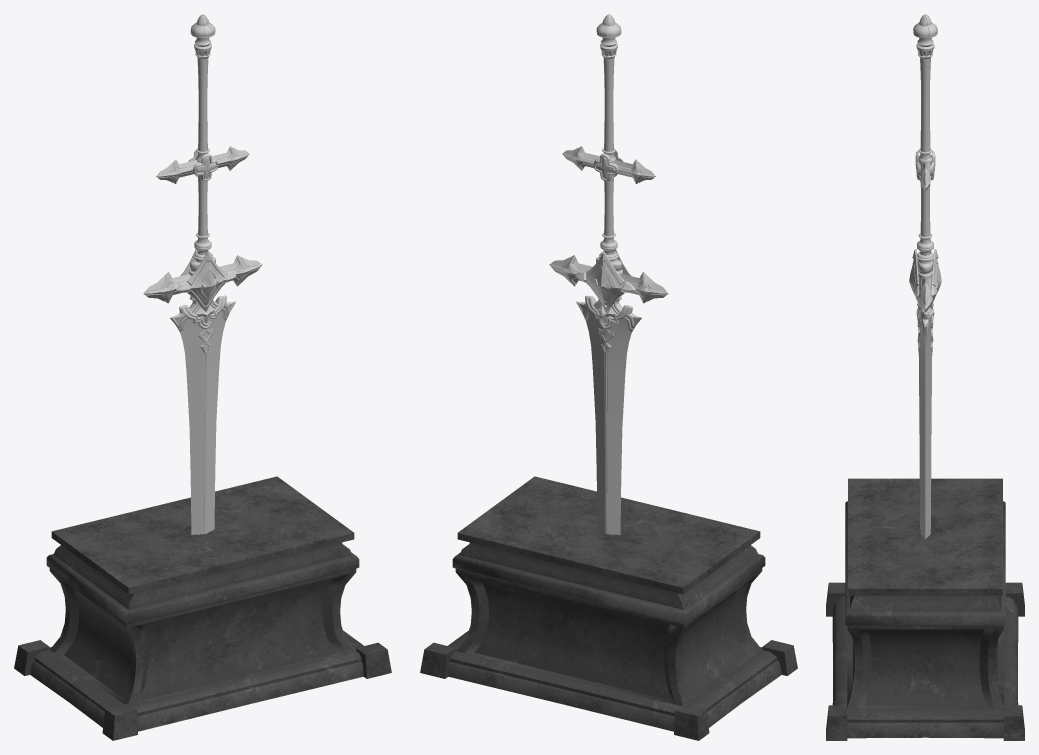
File: Excalibur.fbx
3 renders of one model, left to right at view 1: azimuth 30°, elevation 25°; view 2: azimuth 150°, elevation 25°; view 3: azimuth 270°, elevation 25°, orthographic.
Visible parts, largest first — view 1: Stone004, Excalibur; view 2: Stone004, Excalibur; view 3: Stone004, Excalibur.
Boxes of the visible parts, x1,y1,x2,y2 form: Stone004: [14, 476, 391, 740]; Excalibur: [143, 14, 262, 534]; Stone004: [420, 476, 797, 740]; Excalibur: [549, 14, 668, 534]; Stone004: [826, 478, 1024, 740]; Excalibur: [909, 14, 941, 538].
Size of the model in its own units: 158 by 356 by 97.32.
